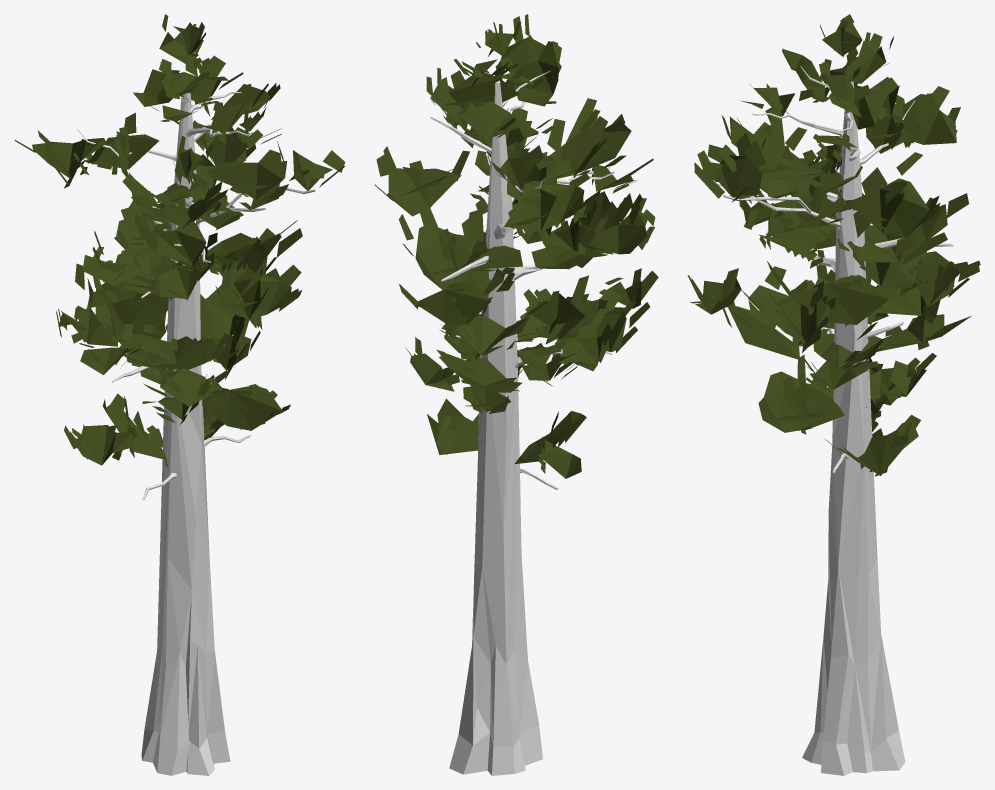
File: tree-sequoia-young-a.gltf
The picture shows the model from 3 angles, left to right: view 1: azimuth 30°, elevation 25°; view 2: azimuth 150°, elevation 25°; view 3: azimuth 270°, elevation 25°; orthographic projection.
Parts seen in each view (by area): view 1: tree-sequoia-young-a; view 2: tree-sequoia-young-a; view 3: tree-sequoia-young-a.
Boxes of the visible parts, x1,y1,x2,y2 form: tree-sequoia-young-a: (14,14,345,775); tree-sequoia-young-a: (374,14,658,775); tree-sequoia-young-a: (687,14,980,775).
Bounding box in the file's own units: 0.0378 × 0.1128 × 0.0407.
